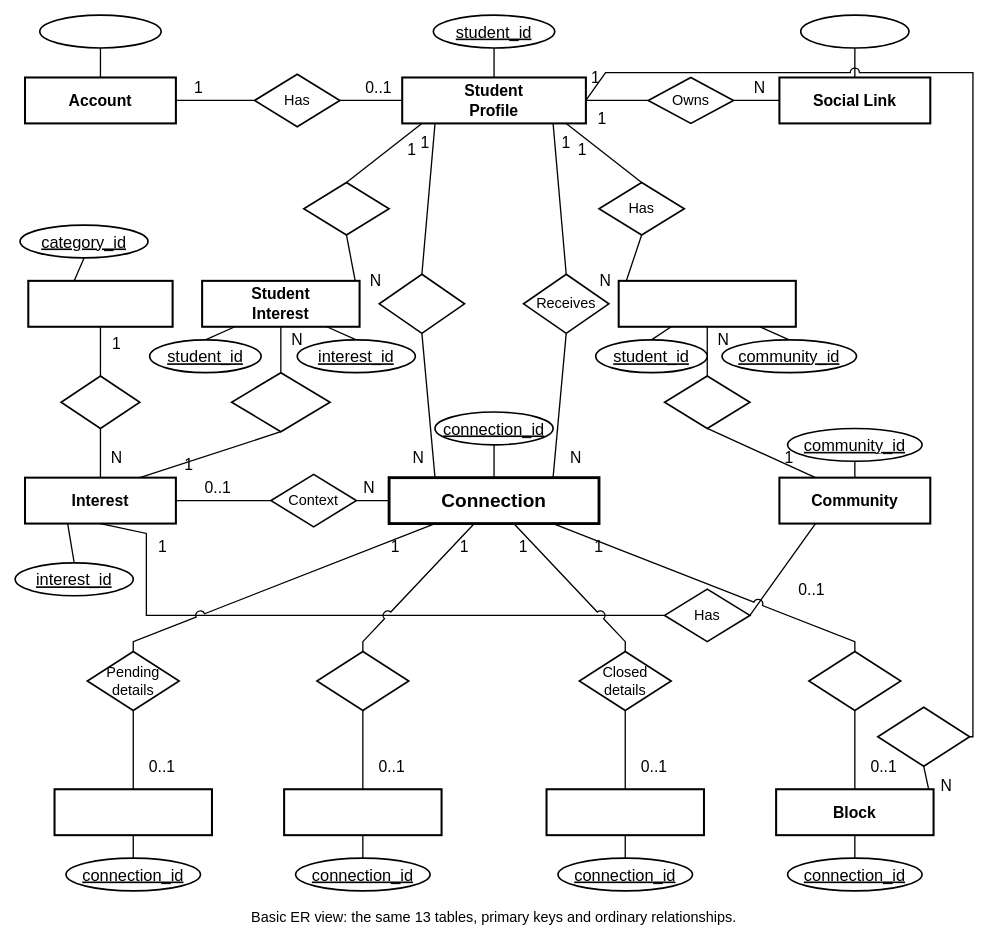
Image size: 988x941. Some labels were removed from this diagram. Each missing label, with the box of its shape:
Accepted Connection: (283, 788, 442, 836)
Accepted details: (316, 650, 409, 711)
account_id: (39, 14, 162, 48)
Block details: (808, 650, 901, 711)
Blocked by: (877, 706, 970, 767)
Category: (27, 279, 173, 327)
Closed Request: (545, 788, 705, 836)
Community Membership: (617, 279, 796, 327)
Contains: (663, 375, 750, 429)
Groups: (60, 375, 140, 429)
link_id: (800, 14, 909, 48)
Lists: (303, 181, 390, 235)
Pending Request: (53, 788, 213, 836)
Requests: (378, 273, 465, 334)
Selected as: (230, 371, 330, 432)
